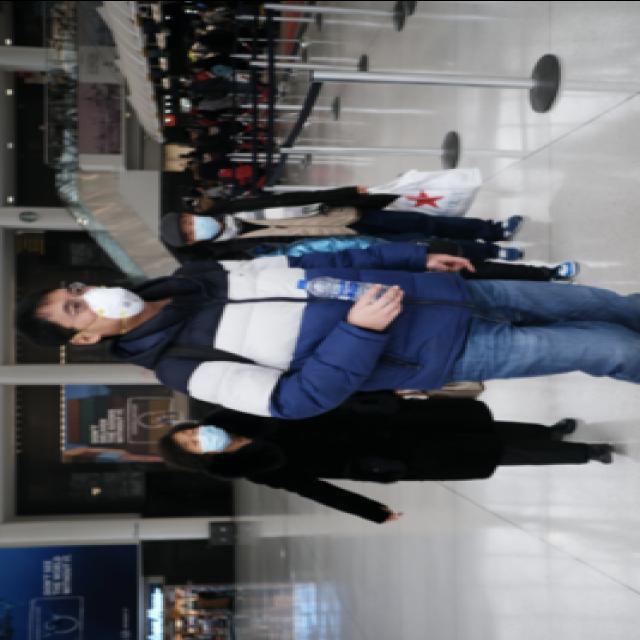with_mask: (55, 282, 146, 332), (172, 424, 235, 454), (177, 213, 223, 240)
